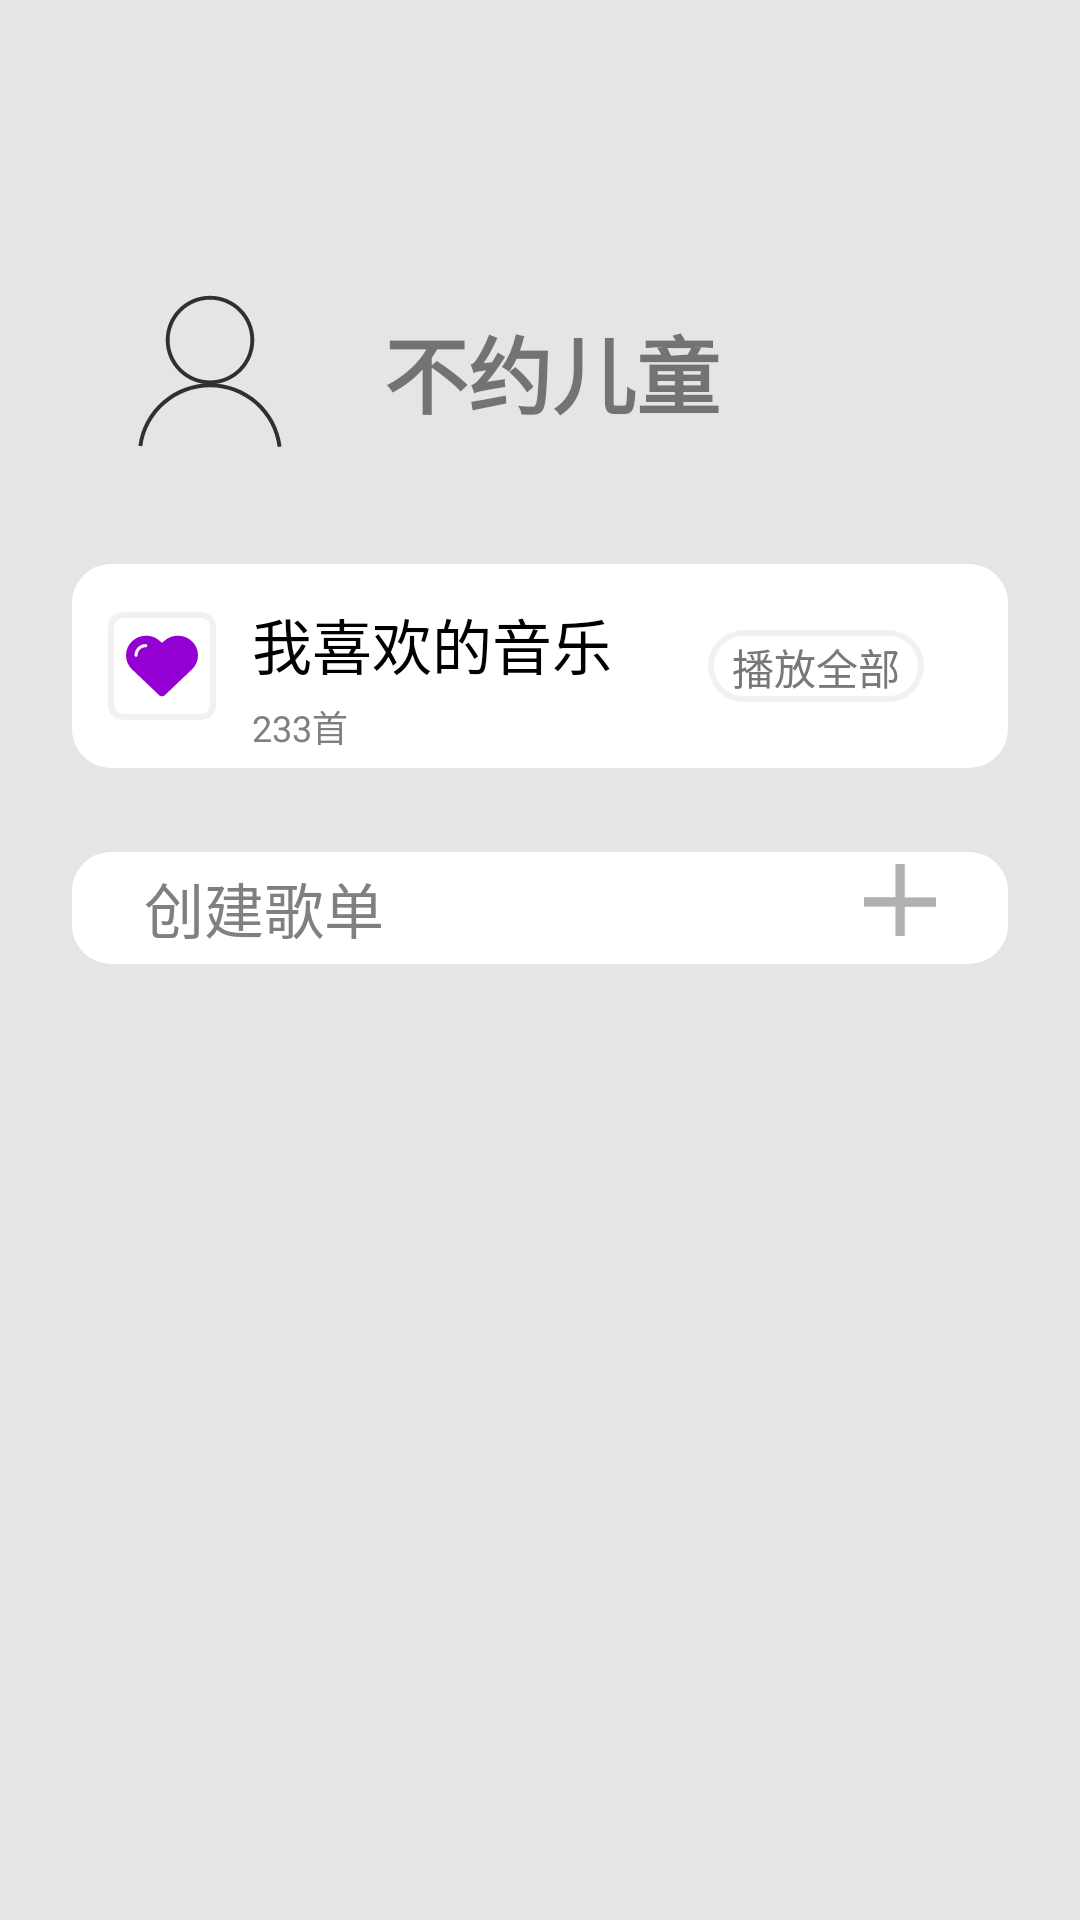

Named icons in this screenshot (1080px x 1920px) and their centers, (x=x, y=y):
创建歌单: (x=900, y=900)
用户头像: (x=210, y=371)
